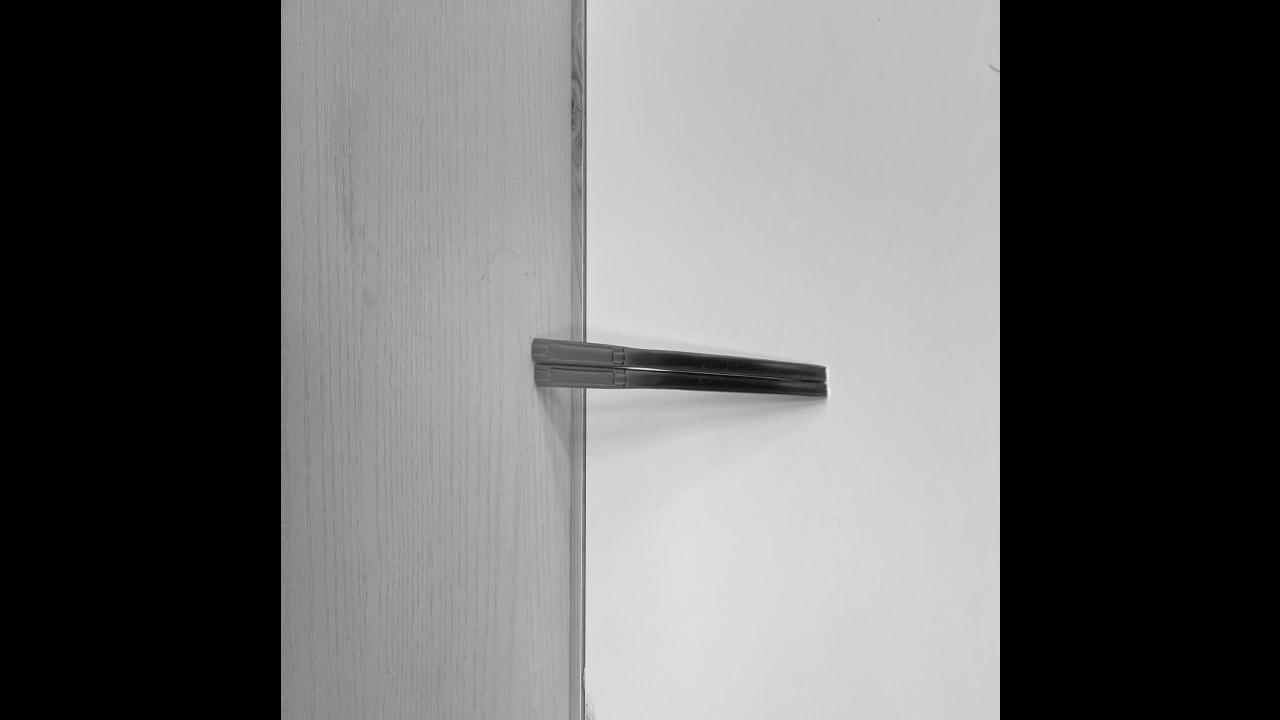chopstick: (532, 335, 826, 399)
